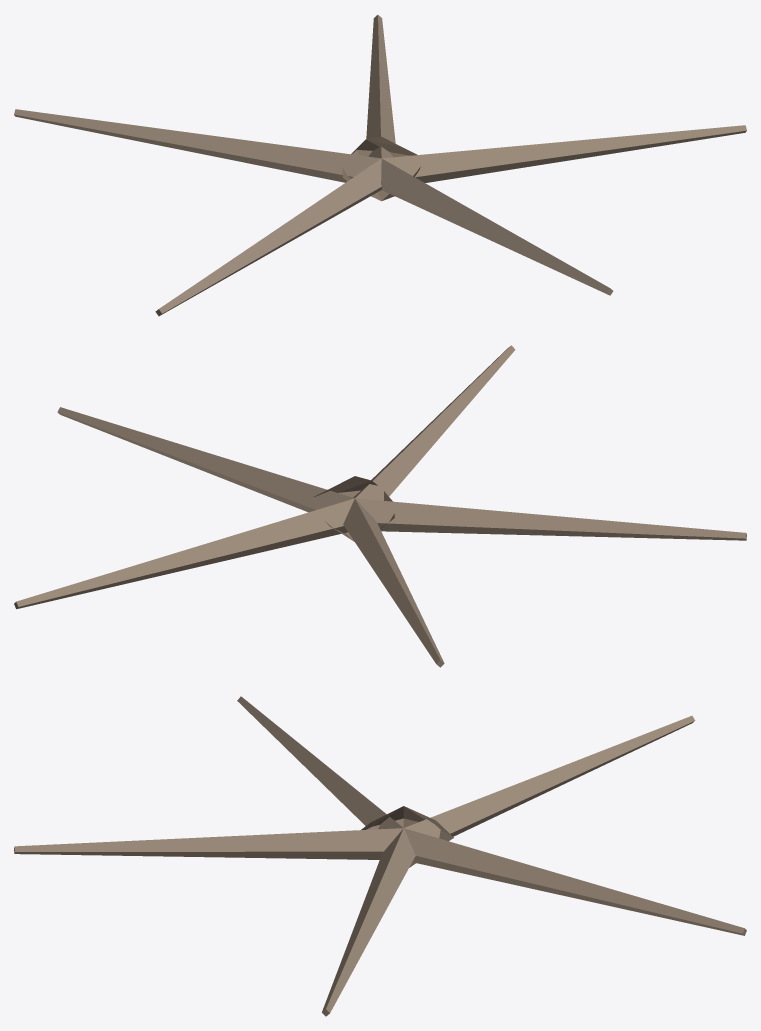
The picture shows the model from 3 angles, top to bottom: view 1: azimuth 30°, elevation 25°; view 2: azimuth 150°, elevation 25°; view 3: azimuth 270°, elevation 25°; orthographic projection. The views are drawn at different scales.
Parts seen in each view (by area): view 1: lod0; view 2: lod0; view 3: lod0.
Part boxes in pixels (left/top/right/bottom): lod0: left=14, top=15, right=746, bottom=316; lod0: left=14, top=345, right=746, bottom=667; lod0: left=14, top=696, right=746, bottom=1016.
Size of what is drawn, in the model's own units: 2.09 by 0.2044 by 2.06.
